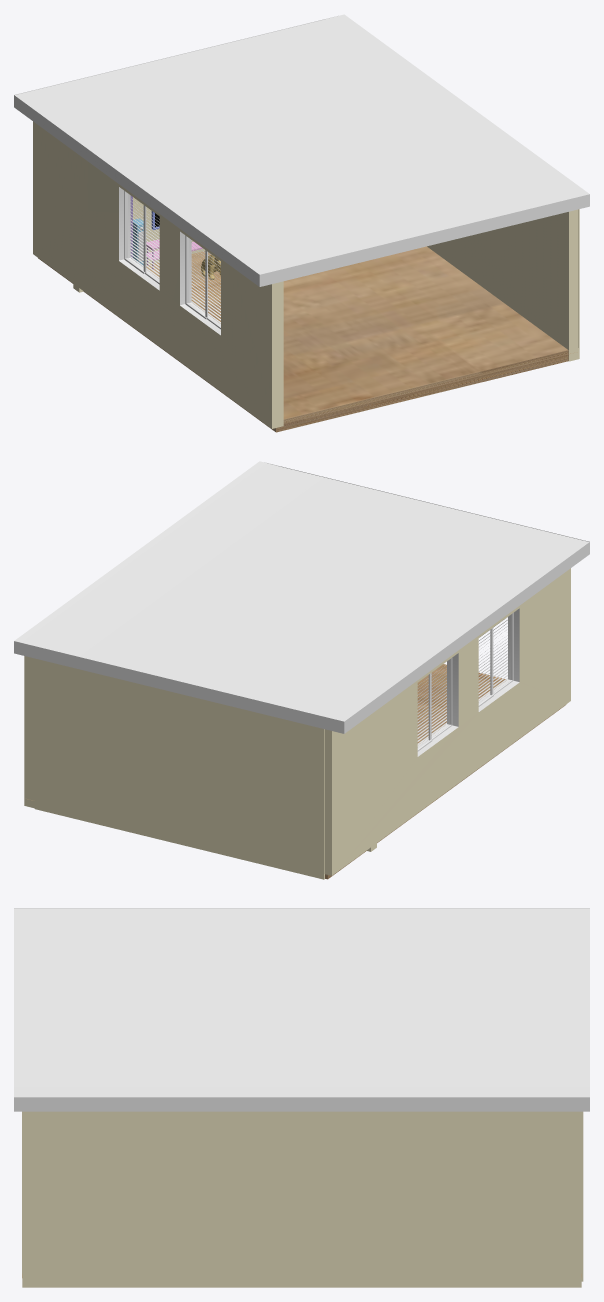
Rendered from SceneGame.fbx.
3 views of the same model, one above another, from view 1: azimuth 30°, elevation 25°; view 2: azimuth 150°, elevation 25°; view 3: azimuth 270°, elevation 25° (orthographic). The views are drawn at different scales.
Visible parts, largest first — view 1: Decke, Cube.003, Wand_Fenster, Cube, Würfel.4_3, Würfel.5_2, Würfel.1_2; view 2: Decke, Cube.001, Wand_Fenster, Cube.003, Wand.002, Würfel.4_3, Würfel.5_2; view 3: Decke, Cube.
Part boxes in pixels (x1,y1,x2,y2): Decke: (14, 14, 589, 286); Cube.003: (38, 246, 568, 432); Wand_Fenster: (33, 121, 283, 428); Cube: (427, 209, 579, 361); Würfel.4_3: (119, 187, 159, 290); Würfel.5_2: (180, 231, 220, 335); Würfel.1_2: (130, 195, 205, 264); Decke: (14, 461, 589, 733); Cube.001: (34, 658, 324, 879); Wand_Fenster: (324, 568, 570, 875); Cube.003: (325, 664, 566, 879); Wand.002: (25, 656, 34, 796); Würfel.4_3: (417, 653, 458, 756); Würfel.5_2: (478, 608, 519, 711); Decke: (14, 908, 589, 1111); Cube: (22, 1111, 581, 1287).
Bounding box in the file's own units: 55901 × 26808 × 72000.
14 materials, 1 textured.
